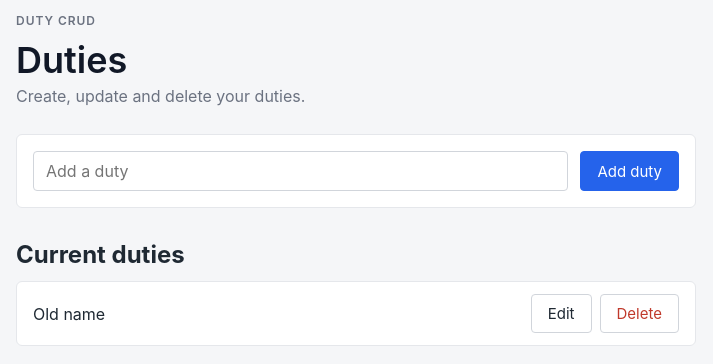
App › shows the edited name without reloading the page
Click the button with aria-label "Edit Old name": {"x": 561, "y": 314} [531, 294, 592, 333]
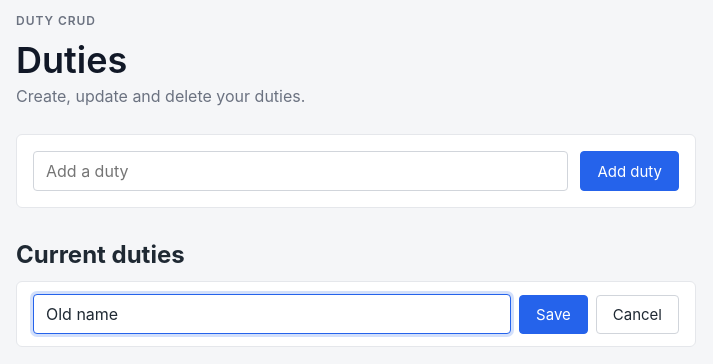
Replace the text in the field named "New duty name" with "New name": {"x": 272, "y": 314} [33, 294, 511, 334]
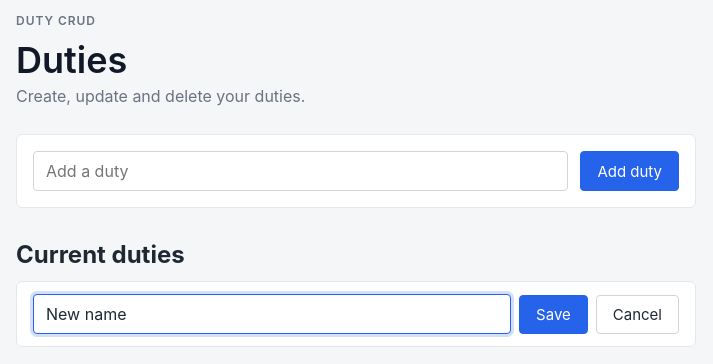
Click the button "Save": {"x": 553, "y": 314} [519, 294, 588, 334]
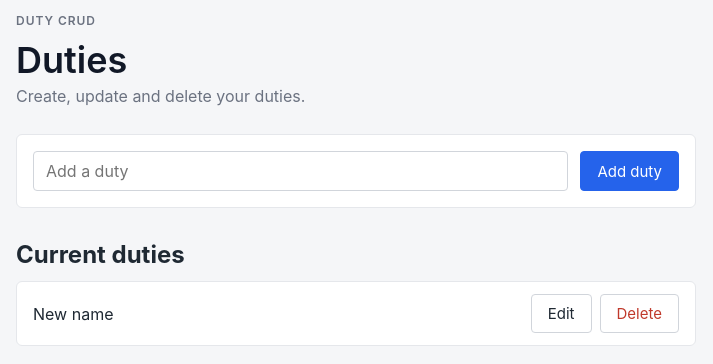
Expected: the text "Old name" is not shown
Expected: the text "New name" is shown, [33, 304, 114, 324]
